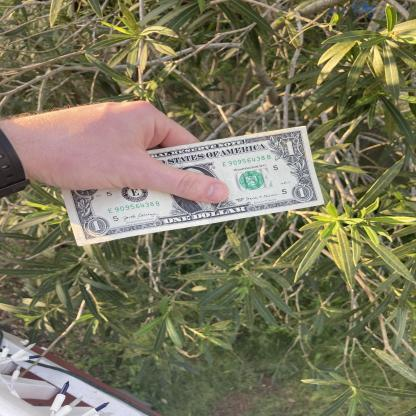one-front: (55, 125, 324, 247)
